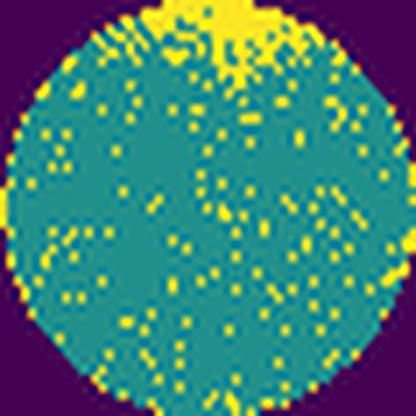Edge-Loc: (132, 0, 325, 87)
